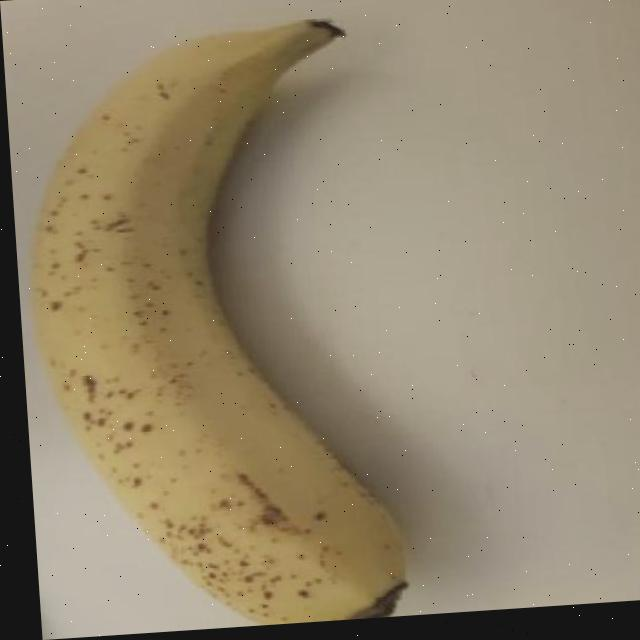banana: (10, 13, 412, 637)
